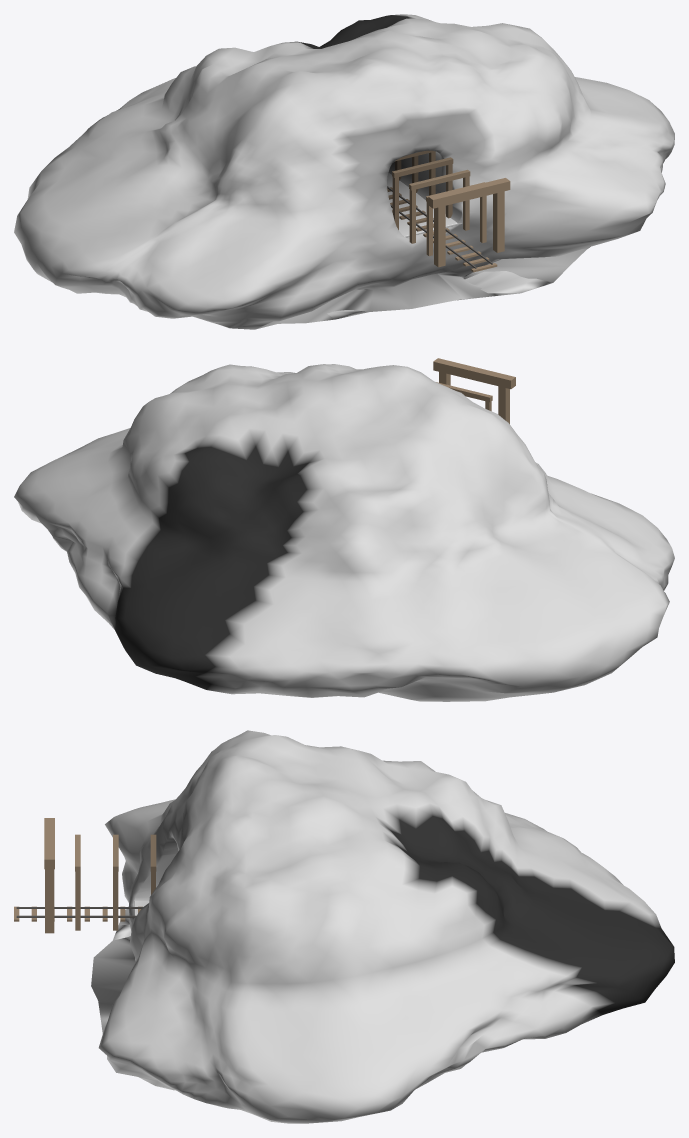
The model's file is mine_portal.glb.
3 views of the same model, one above another, from view 1: azimuth 30°, elevation 25°; view 2: azimuth 150°, elevation 25°; view 3: azimuth 270°, elevation 25° (orthographic). The views are drawn at different scales.
Parts seen in each view (by area): view 1: cave mouth rock-col, portal frame lintel, mouth floor-col, portal frame post.001, portal frame post, portal cap.002; view 2: cave mouth rock-col, portal frame lintel; view 3: cave mouth rock-col, portal frame post.001.
Boxes of the visible parts, x1=… form: cave mouth rock-col: x1=14, y1=14, x2=674, y2=329; portal frame lintel: x1=428, y1=178, x2=510, y2=208; mouth floor-col: x1=387, y1=172, x2=462, y2=237; portal frame post.001: x1=493, y1=191, x2=504, y2=252; portal frame post: x1=434, y1=206, x2=445, y2=267; portal cap.002: x1=392, y1=157, x2=453, y2=177; cave mouth rock-col: x1=14, y1=364, x2=674, y2=701; portal frame lintel: x1=433, y1=358, x2=515, y2=389; cave mouth rock-col: x1=91, y1=730, x2=674, y2=1123; portal frame post.001: x1=45, y1=869, x2=54, y2=933.
Size of the model in its own units: 33.33 by 11 by 28.
